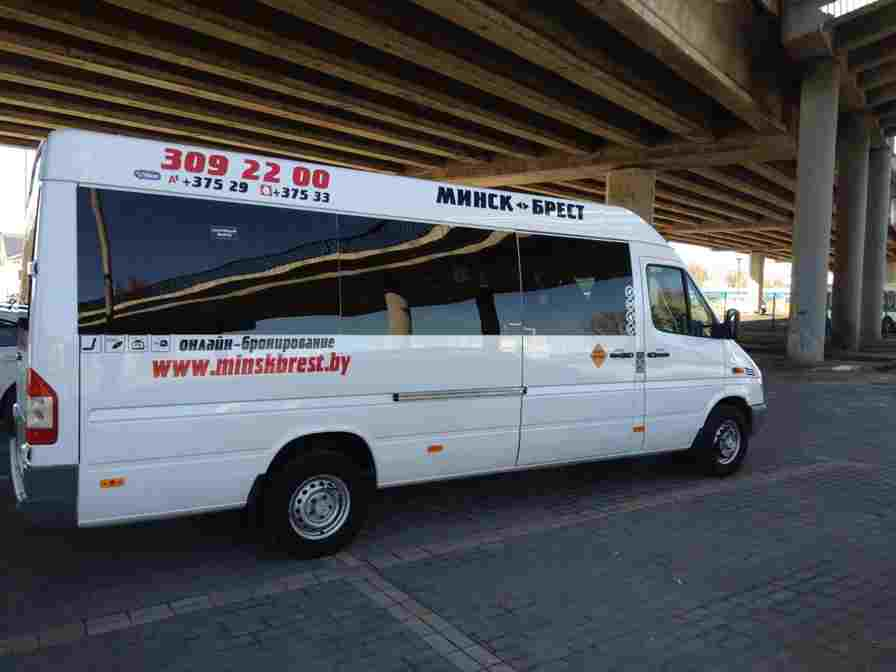van: (4, 128, 771, 563)
